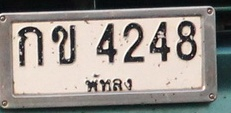txt01: (16, 26, 46, 69)
txt02: (50, 24, 78, 67)
